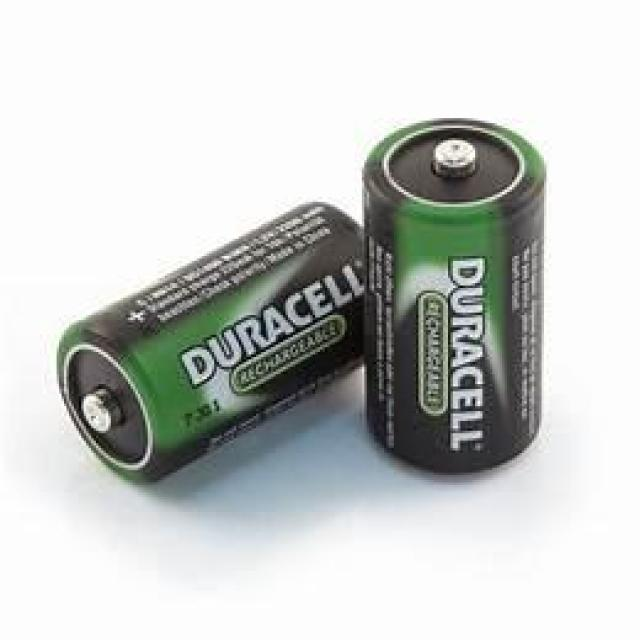battery: (59, 197, 373, 488), (362, 111, 547, 477)
